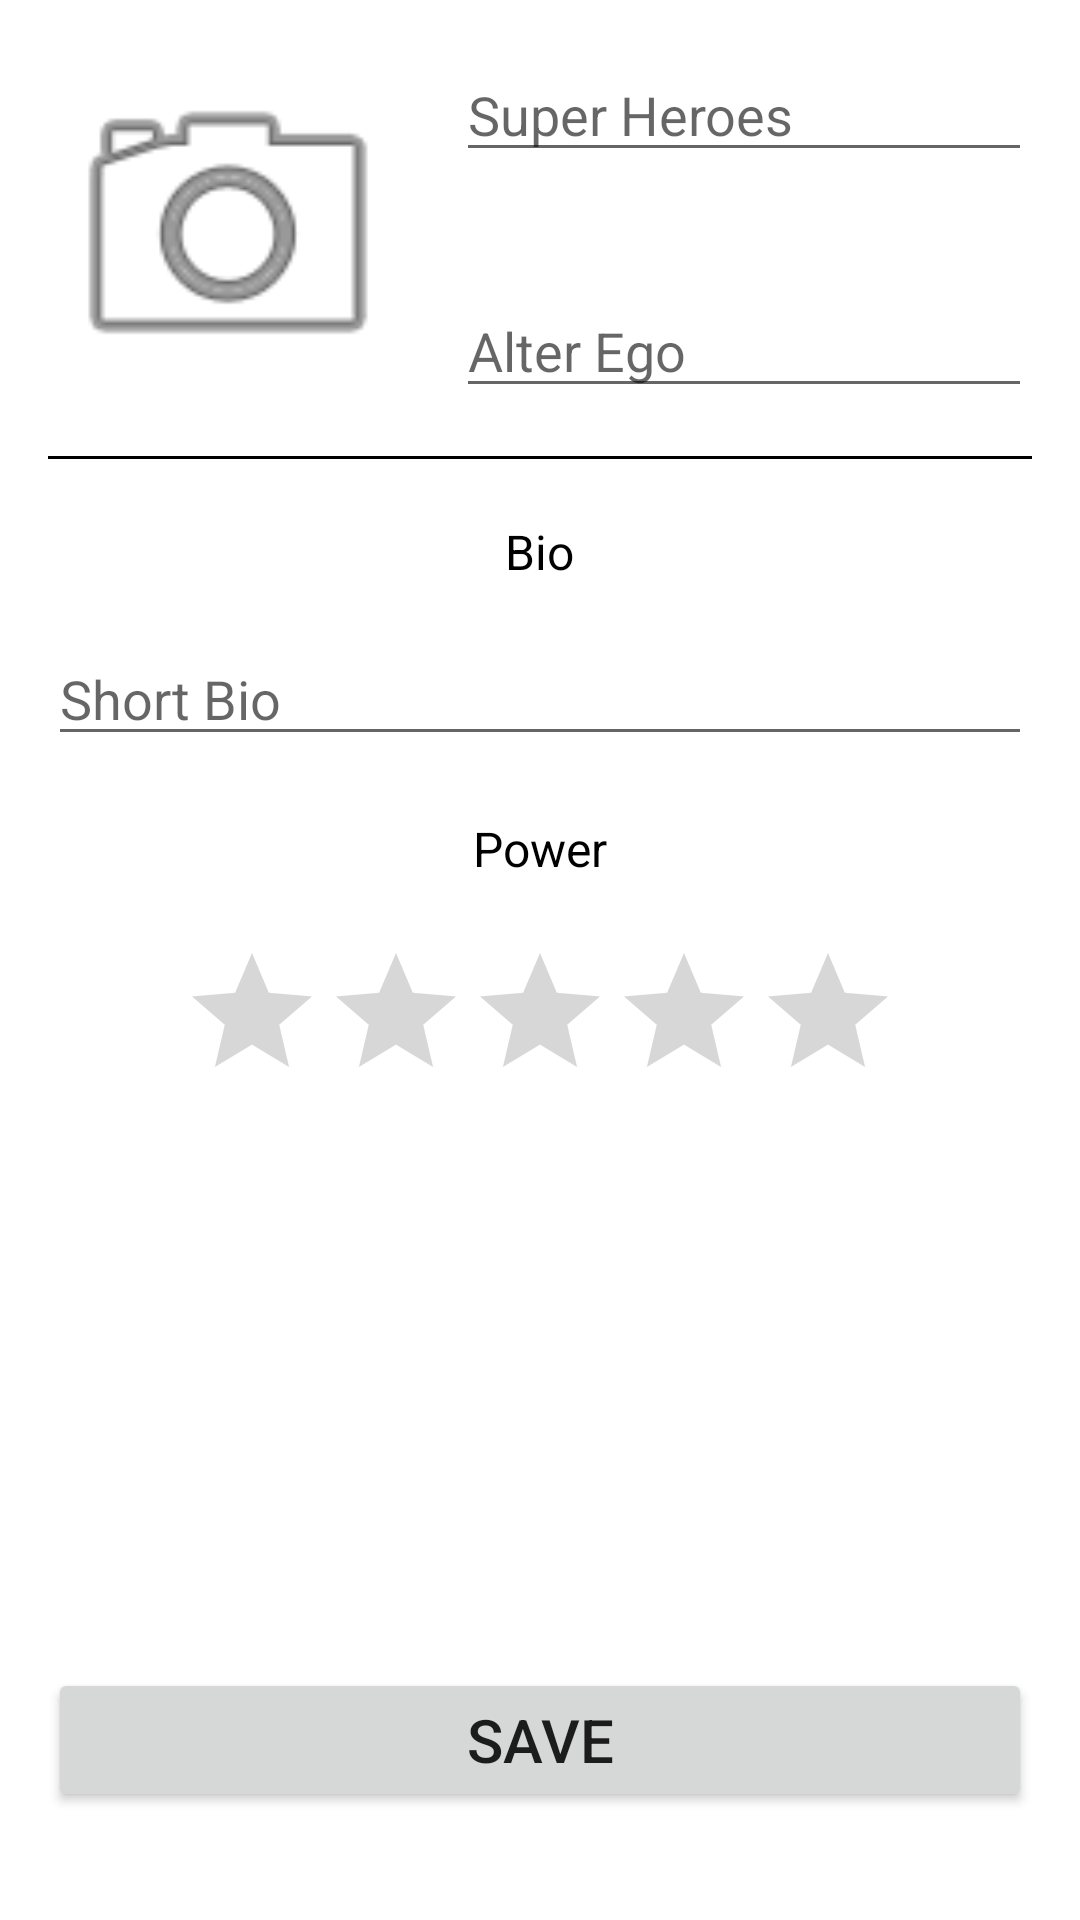

Icon bounding boxes for this 1080×1920 phone screenshot, format (x1, y1, x2, y2):
camera: (89, 111, 367, 333)
